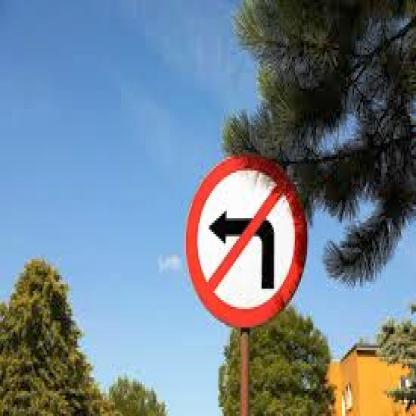No left turn: (182, 151, 305, 333)
